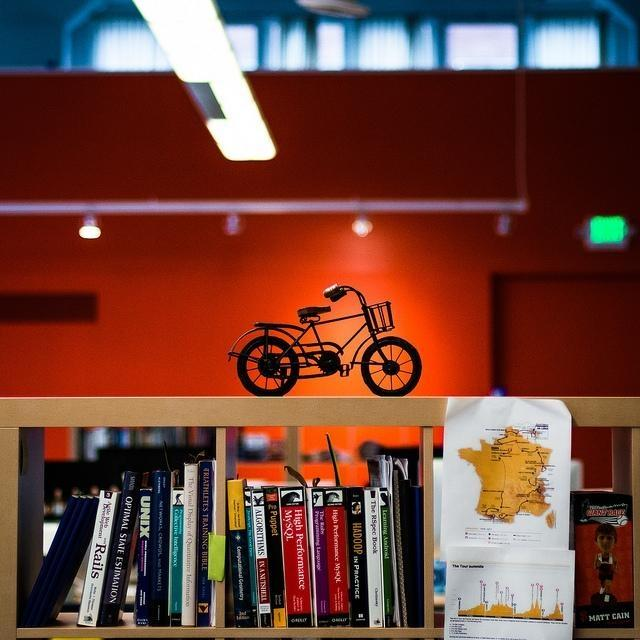bicycle: (226, 280, 424, 397)
